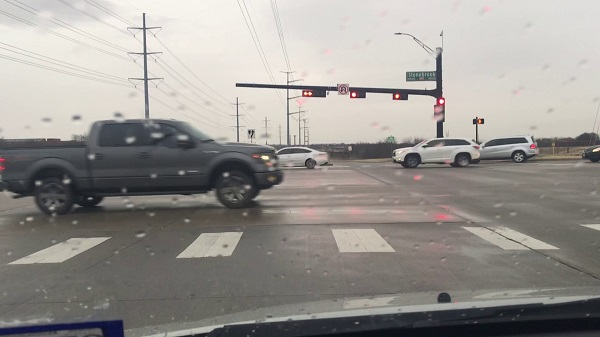car: (390, 137, 479, 170), (481, 138, 538, 164), (276, 143, 327, 172)
truck: (2, 119, 282, 207)
